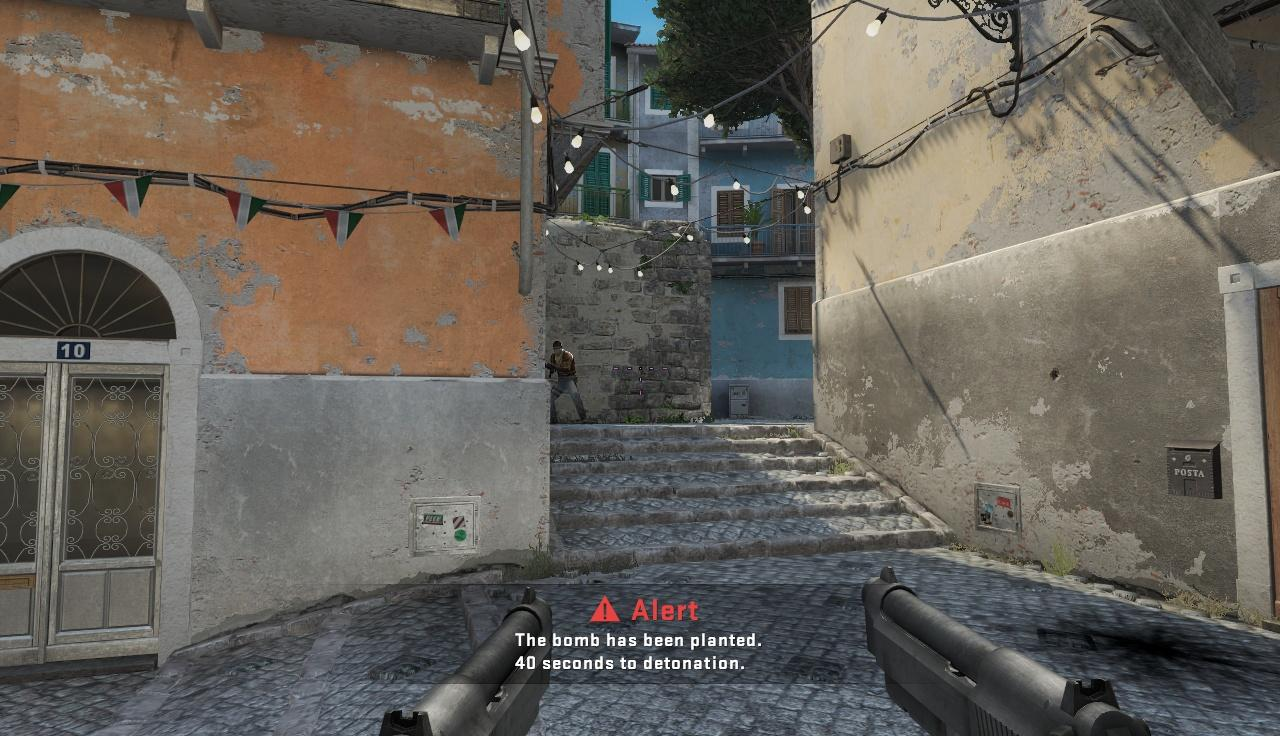pistol: (847, 568, 1150, 736)
tt: (547, 340, 579, 422)
tthead: (552, 340, 564, 354)
